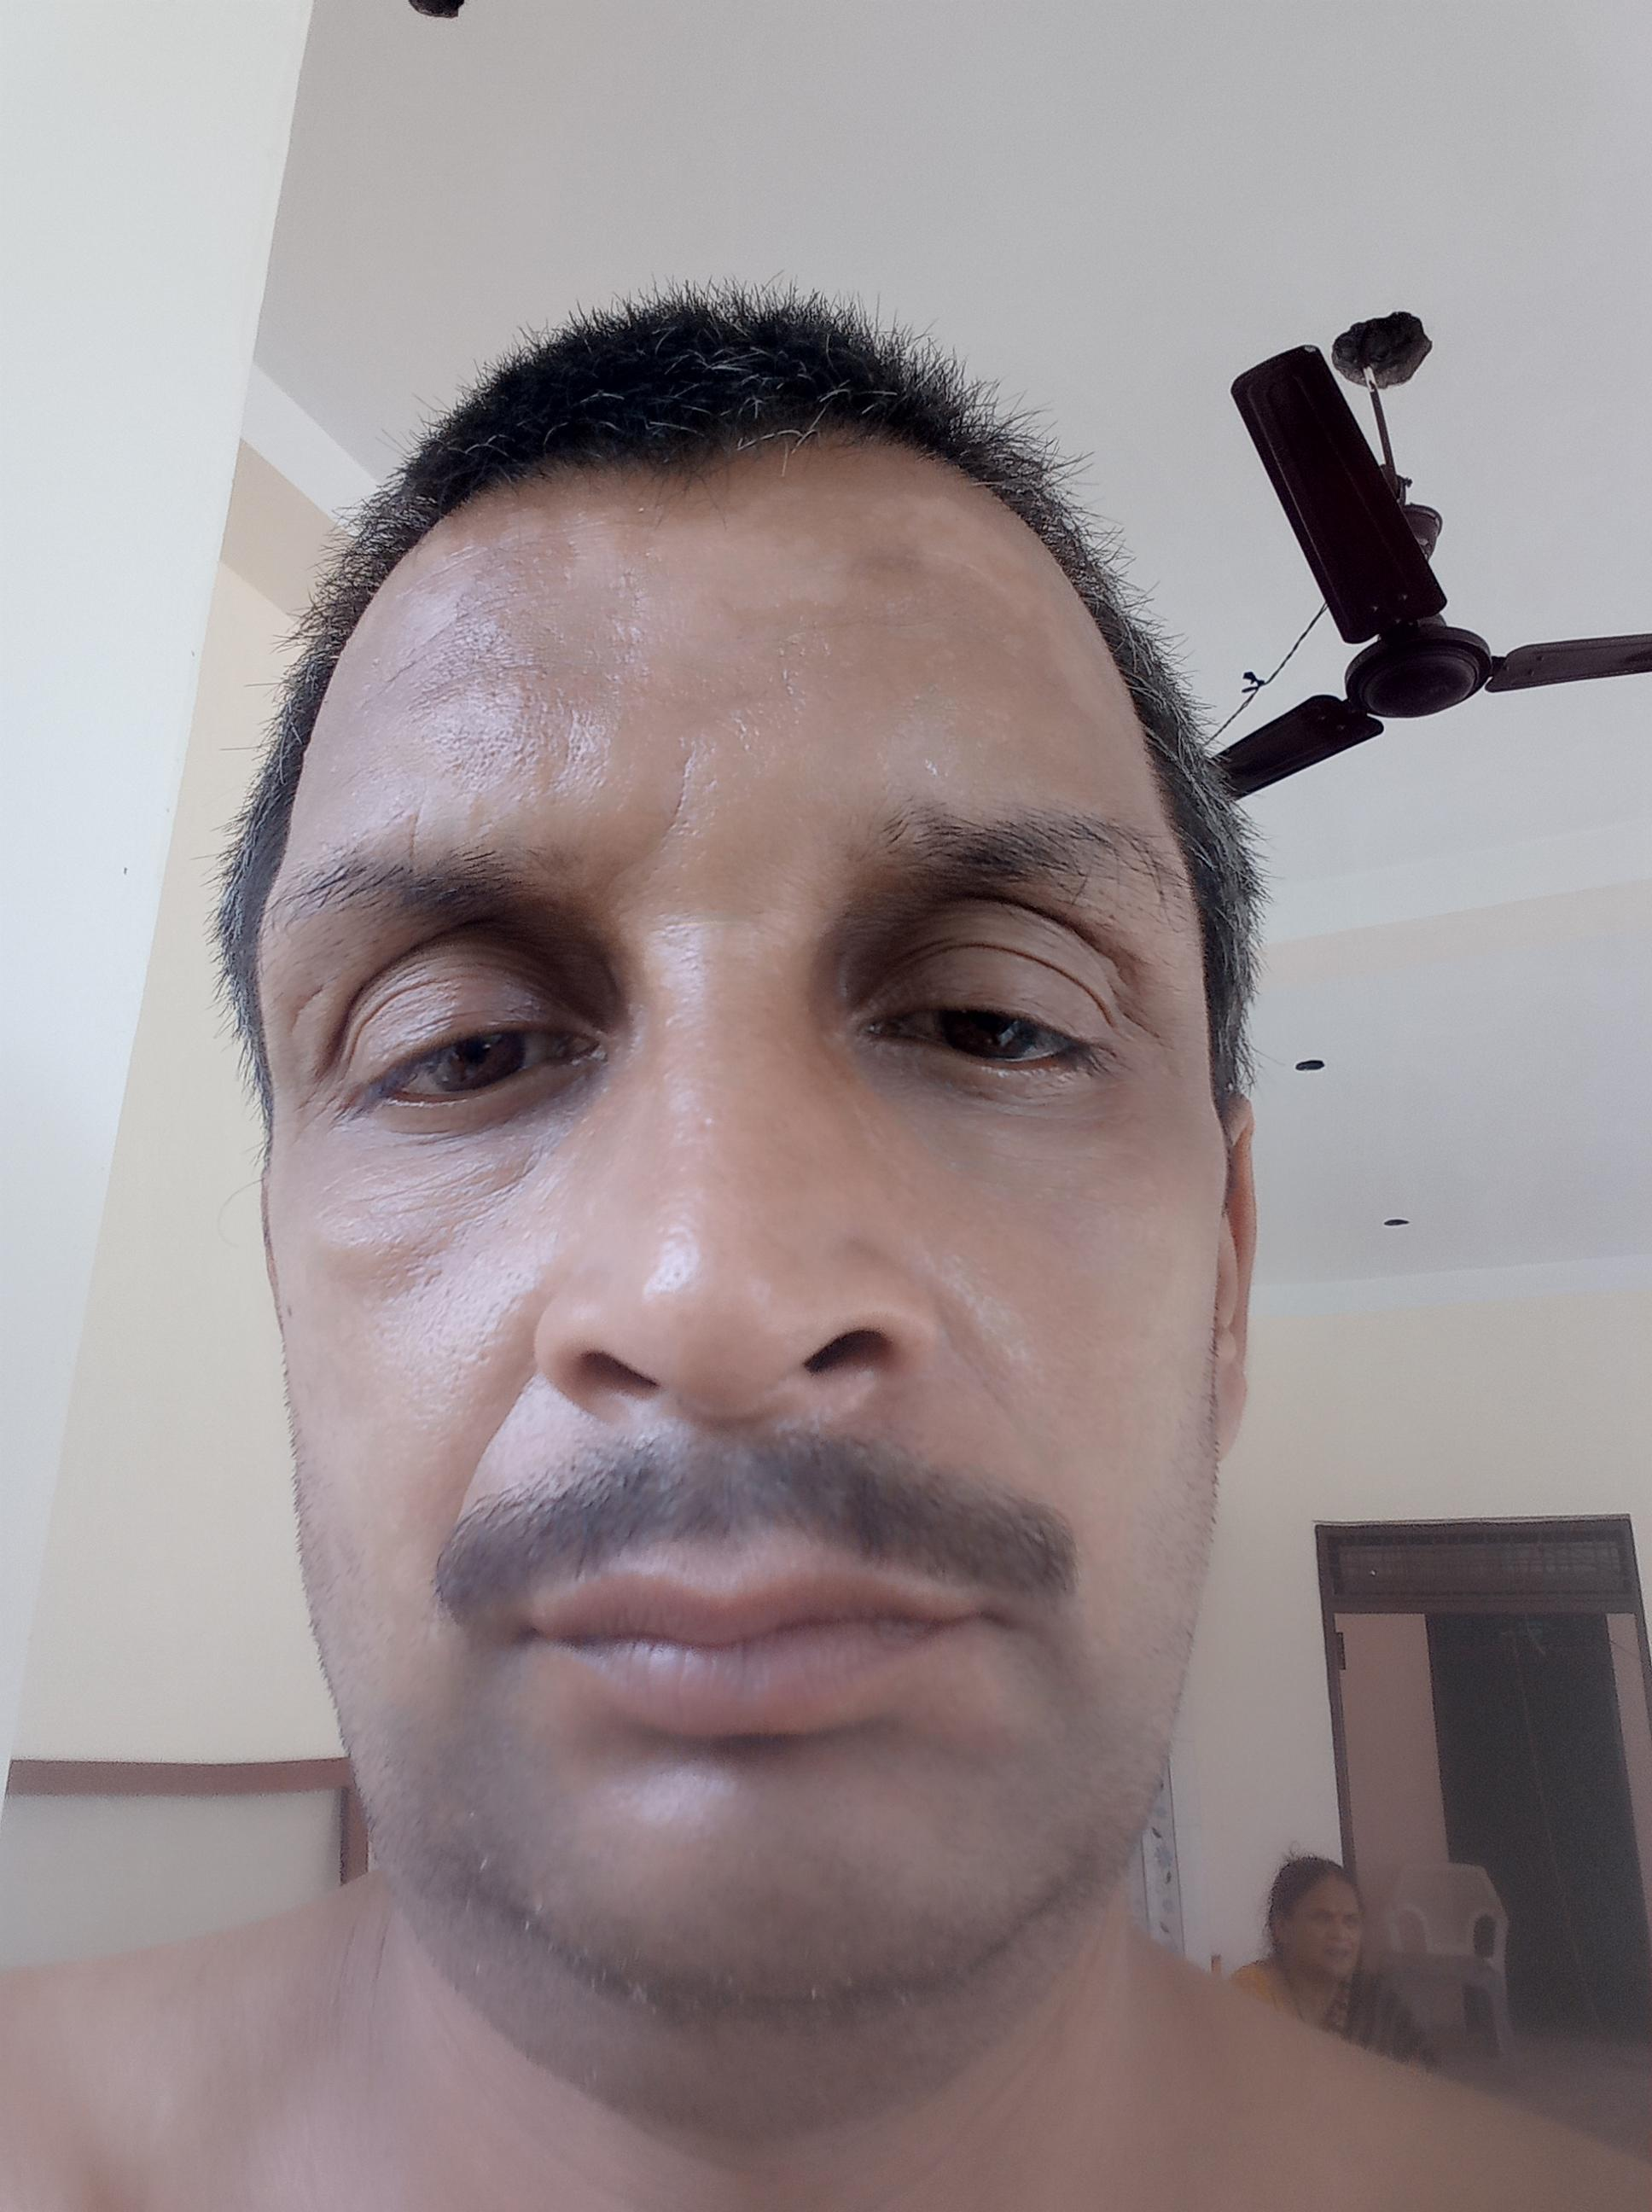Englarged-Pores: (429, 576, 583, 800), (390, 1237, 484, 1357)
Wrinkles: (397, 510, 661, 593), (944, 1319, 1052, 1483), (326, 1147, 534, 1225), (448, 1365, 540, 1532), (415, 585, 574, 645), (654, 741, 703, 864), (413, 658, 543, 703), (366, 647, 423, 704), (281, 980, 330, 1032), (1114, 1005, 1171, 1048), (403, 793, 429, 866), (606, 848, 649, 890)
